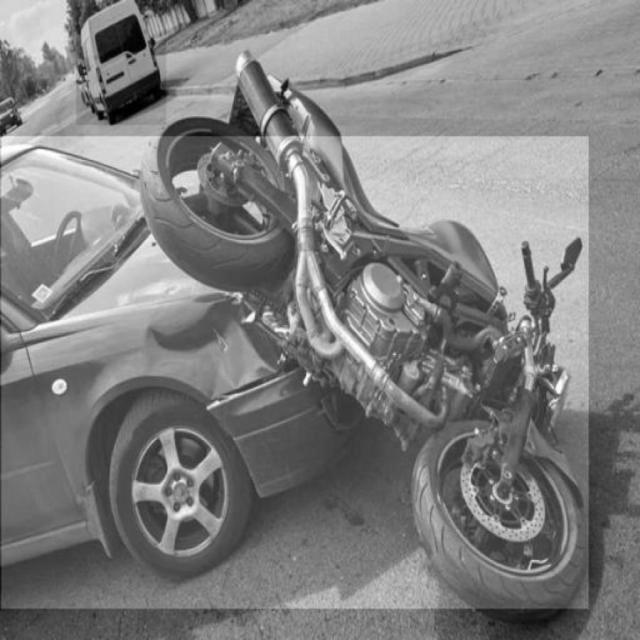accident: (1, 137, 589, 609)
vehicle: (77, 0, 166, 124)
